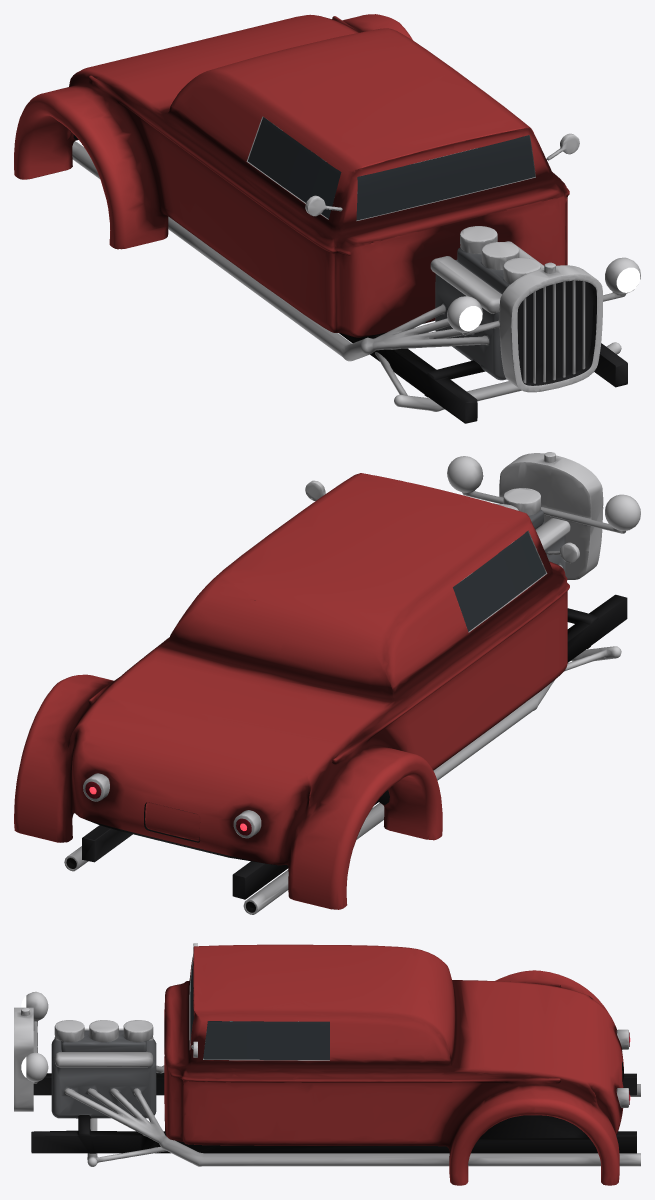
File: deuce.m.glb
3 renders of one model, top to bottom at view 1: azimuth 30°, elevation 25°; view 2: azimuth 150°, elevation 25°; view 3: azimuth 270°, elevation 25°, orthographic. The views are drawn at different scales.
Parts seen in each view (by area): view 1: paint_lodm, chrome_lodm, window_lodm, grille_lodm, trim_lodm, head_lodm, lens_lodm; view 2: paint_lodm, chrome_lodm, trim_lodm, window_lodm; view 3: paint_lodm, chrome_lodm, trim_lodm, head_lodm, window_lodm.
Part boxes in pixels (bbox=[...]): paint_lodm: bbox=[14, 14, 569, 337]; chrome_lodm: bbox=[72, 116, 640, 411]; window_lodm: bbox=[248, 117, 535, 220]; grille_lodm: bbox=[517, 280, 596, 385]; trim_lodm: bbox=[70, 131, 627, 423]; head_lodm: bbox=[435, 247, 510, 380]; lens_lodm: bbox=[459, 267, 639, 331]; paint_lodm: bbox=[14, 473, 569, 909]; chrome_lodm: bbox=[64, 452, 640, 914]; trim_lodm: bbox=[82, 594, 627, 899]; window_lodm: bbox=[453, 531, 545, 631]; paint_lodm: bbox=[164, 944, 623, 1185]; chrome_lodm: bbox=[14, 943, 640, 1166]; trim_lodm: bbox=[31, 1061, 636, 1153]; head_lodm: bbox=[51, 1030, 156, 1118]; window_lodm: bbox=[190, 958, 329, 1059].
Size of what is drawn, in the model's own units: 1.93 by 1.08 by 3.83.
